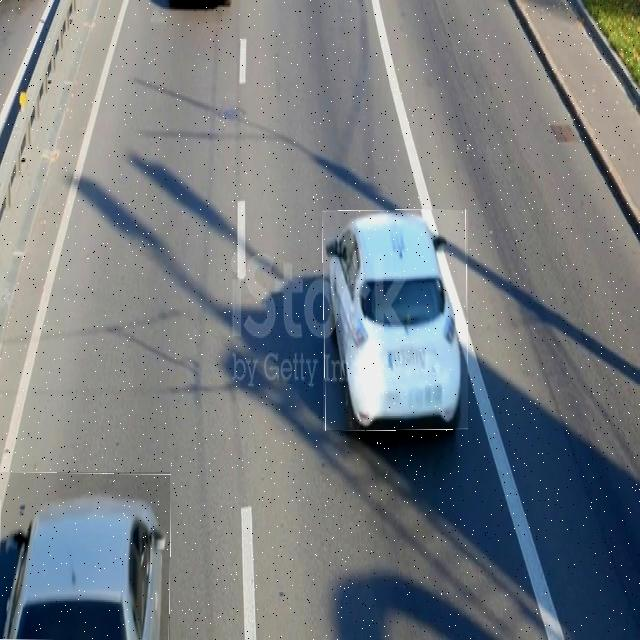Car: (323, 210, 468, 430), (0, 472, 170, 640)
